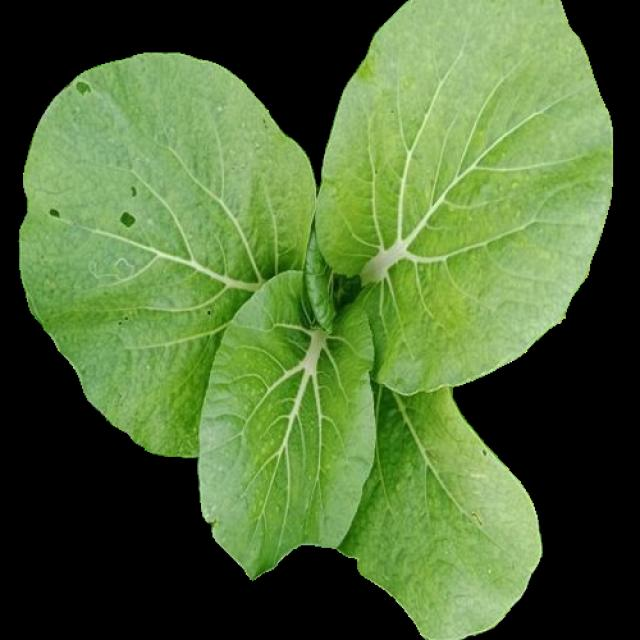mature: (21, 1, 613, 638)
unhealthy: (23, 50, 317, 453), (201, 269, 378, 577), (343, 392, 543, 634)
